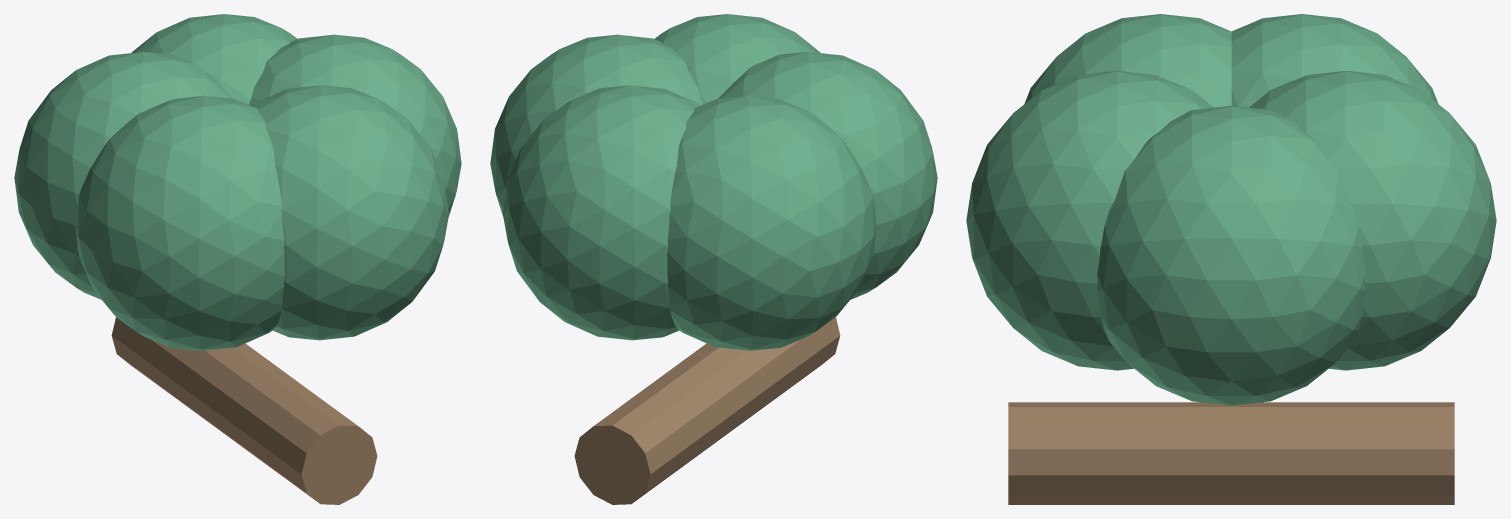
Rendered from world_01.glb.
3 views of the same model, side by side, from view 1: azimuth 30°, elevation 25°; view 2: azimuth 150°, elevation 25°; view 3: azimuth 270°, elevation 25° (orthographic). The views are drawn at different scales.
Visible parts, largest first — view 1: canopy_2, canopy_1, trunk, canopy_3, canopy, canopy_4; view 2: canopy_3, canopy_4, trunk, canopy_2, canopy, canopy_1; view 3: canopy, trunk, canopy_1, canopy_4, canopy_2, canopy_3.
Part boxes in pixels (x1,y1,x2,y2): canopy_2: (75,95,284,350); canopy_1: (251,85,448,340); trunk: (111,317,377,504); canopy_3: (14,51,233,299); canopy: (249,34,461,216); canopy_4: (131,14,297,104); canopy_3: (667,95,876,350); canopy_4: (503,85,700,340); trunk: (574,317,840,504); canopy_2: (718,51,937,299); canopy: (490,34,702,216); canopy_1: (654,14,820,104); canopy: (1097,106,1365,405); trunk: (1008,402,1454,504); canopy_1: (966,71,1213,370); canopy_4: (1249,71,1496,370); canopy_2: (1024,14,1231,107); canopy_3: (1231,14,1438,107).
Bounding box in the file's own units: 1.51 × 1.39 × 1.55.
